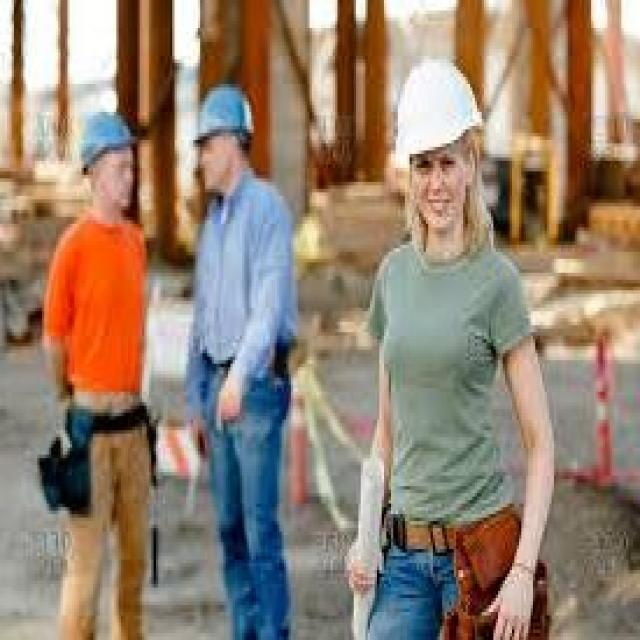Safety-Helmet: (386, 52, 486, 172), (186, 73, 261, 154), (70, 98, 144, 178)
